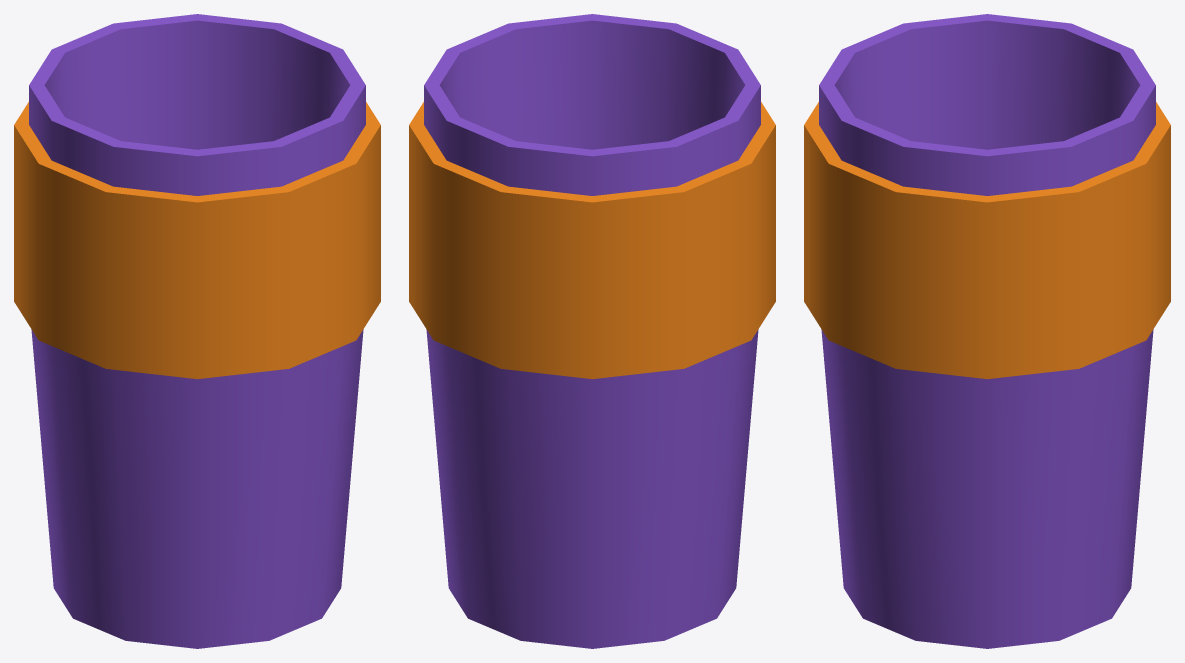
File: SM_CoffeMug.fbx
3 renders of one model, left to right at view 1: azimuth 30°, elevation 25°; view 2: azimuth 150°, elevation 25°; view 3: azimuth 270°, elevation 25°, orthographic.
Parts seen in each view (by area): view 1: SM_CoffeMug; view 2: SM_CoffeMug; view 3: SM_CoffeMug.
Part boxes in pixels (bbox=[...]): SM_CoffeMug: bbox=[14, 14, 380, 648]; SM_CoffeMug: bbox=[409, 14, 775, 648]; SM_CoffeMug: bbox=[804, 14, 1170, 648].
Size of the model in its own units: 8.05 by 12.18 by 8.05.
